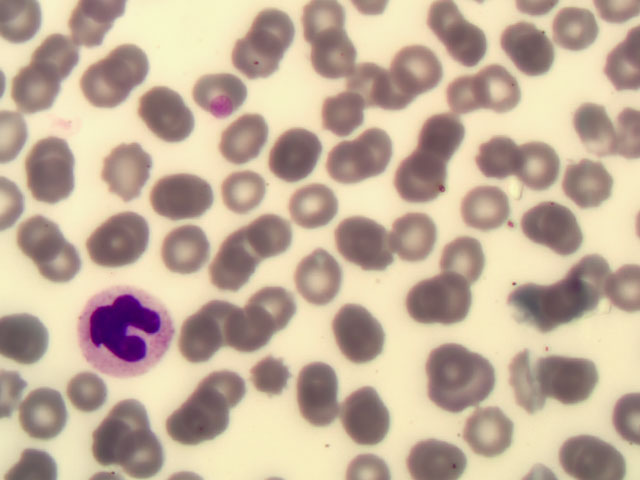Platelets: (214, 94, 235, 119)
RBC: (34, 36, 86, 82), (11, 65, 63, 111), (84, 67, 136, 113), (104, 46, 156, 92), (137, 80, 189, 126), (105, 145, 157, 191), (28, 160, 80, 206), (25, 136, 77, 182), (15, 210, 67, 256), (31, 234, 83, 280), (80, 226, 132, 272), (105, 208, 157, 254), (153, 174, 205, 220), (159, 229, 211, 275), (198, 251, 250, 297), (223, 227, 275, 273), (248, 214, 300, 260), (217, 169, 269, 215), (225, 117, 277, 163), (266, 130, 318, 176), (235, 39, 287, 85), (248, 7, 300, 53), (312, 33, 364, 79), (338, 64, 390, 110), (322, 93, 374, 139), (317, 142, 369, 188), (352, 121, 404, 167), (283, 186, 335, 232), (339, 215, 391, 261), (296, 255, 348, 301), (255, 282, 307, 328), (218, 310, 270, 356), (201, 298, 253, 344), (185, 317, 237, 363), (191, 362, 243, 408), (184, 395, 236, 441), (116, 429, 168, 475), (94, 418, 146, 464), (101, 392, 153, 438), (65, 369, 117, 415), (26, 392, 78, 438), (9, 317, 61, 363), (336, 309, 388, 355), (292, 365, 344, 411), (248, 354, 300, 400), (345, 394, 397, 440), (424, 345, 476, 391), (406, 283, 458, 329), (421, 268, 473, 314), (440, 234, 492, 280), (392, 212, 444, 258), (392, 157, 444, 203), (405, 116, 457, 162), (395, 46, 447, 92), (423, 4, 475, 50), (437, 75, 489, 121), (478, 66, 530, 112), (504, 25, 556, 71), (552, 7, 604, 53), (566, 108, 618, 154), (564, 158, 616, 204), (515, 142, 567, 188), (475, 135, 527, 181), (461, 187, 513, 233), (525, 203, 577, 249), (566, 252, 618, 298), (548, 274, 600, 320), (508, 282, 560, 328), (505, 354, 557, 400), (446, 363, 498, 409), (456, 402, 508, 448), (406, 434, 458, 480), (549, 354, 601, 400), (559, 434, 611, 480), (68, 1, 120, 46), (298, 1, 350, 46)
WBC: (83, 285, 179, 376)
